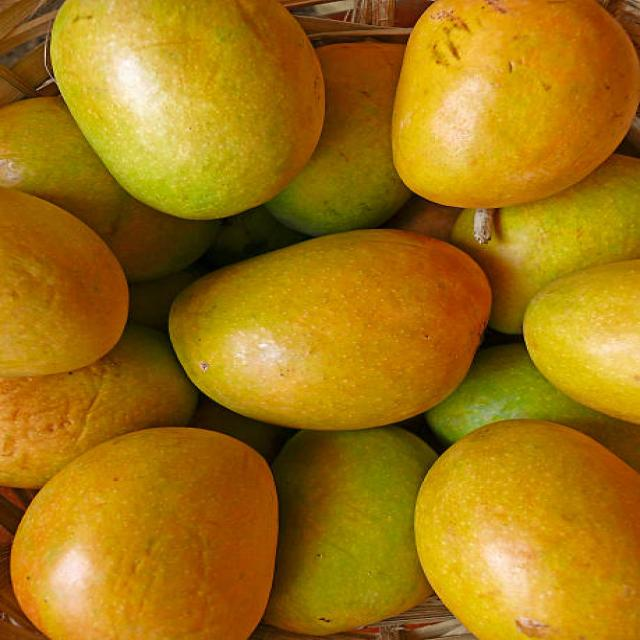mango: (170, 230, 490, 430), (52, 0, 325, 219), (12, 428, 278, 640), (392, 0, 638, 208), (417, 420, 638, 640), (263, 426, 437, 634), (450, 155, 638, 333), (0, 326, 198, 488), (267, 44, 412, 236), (0, 189, 128, 376), (523, 260, 640, 423)
